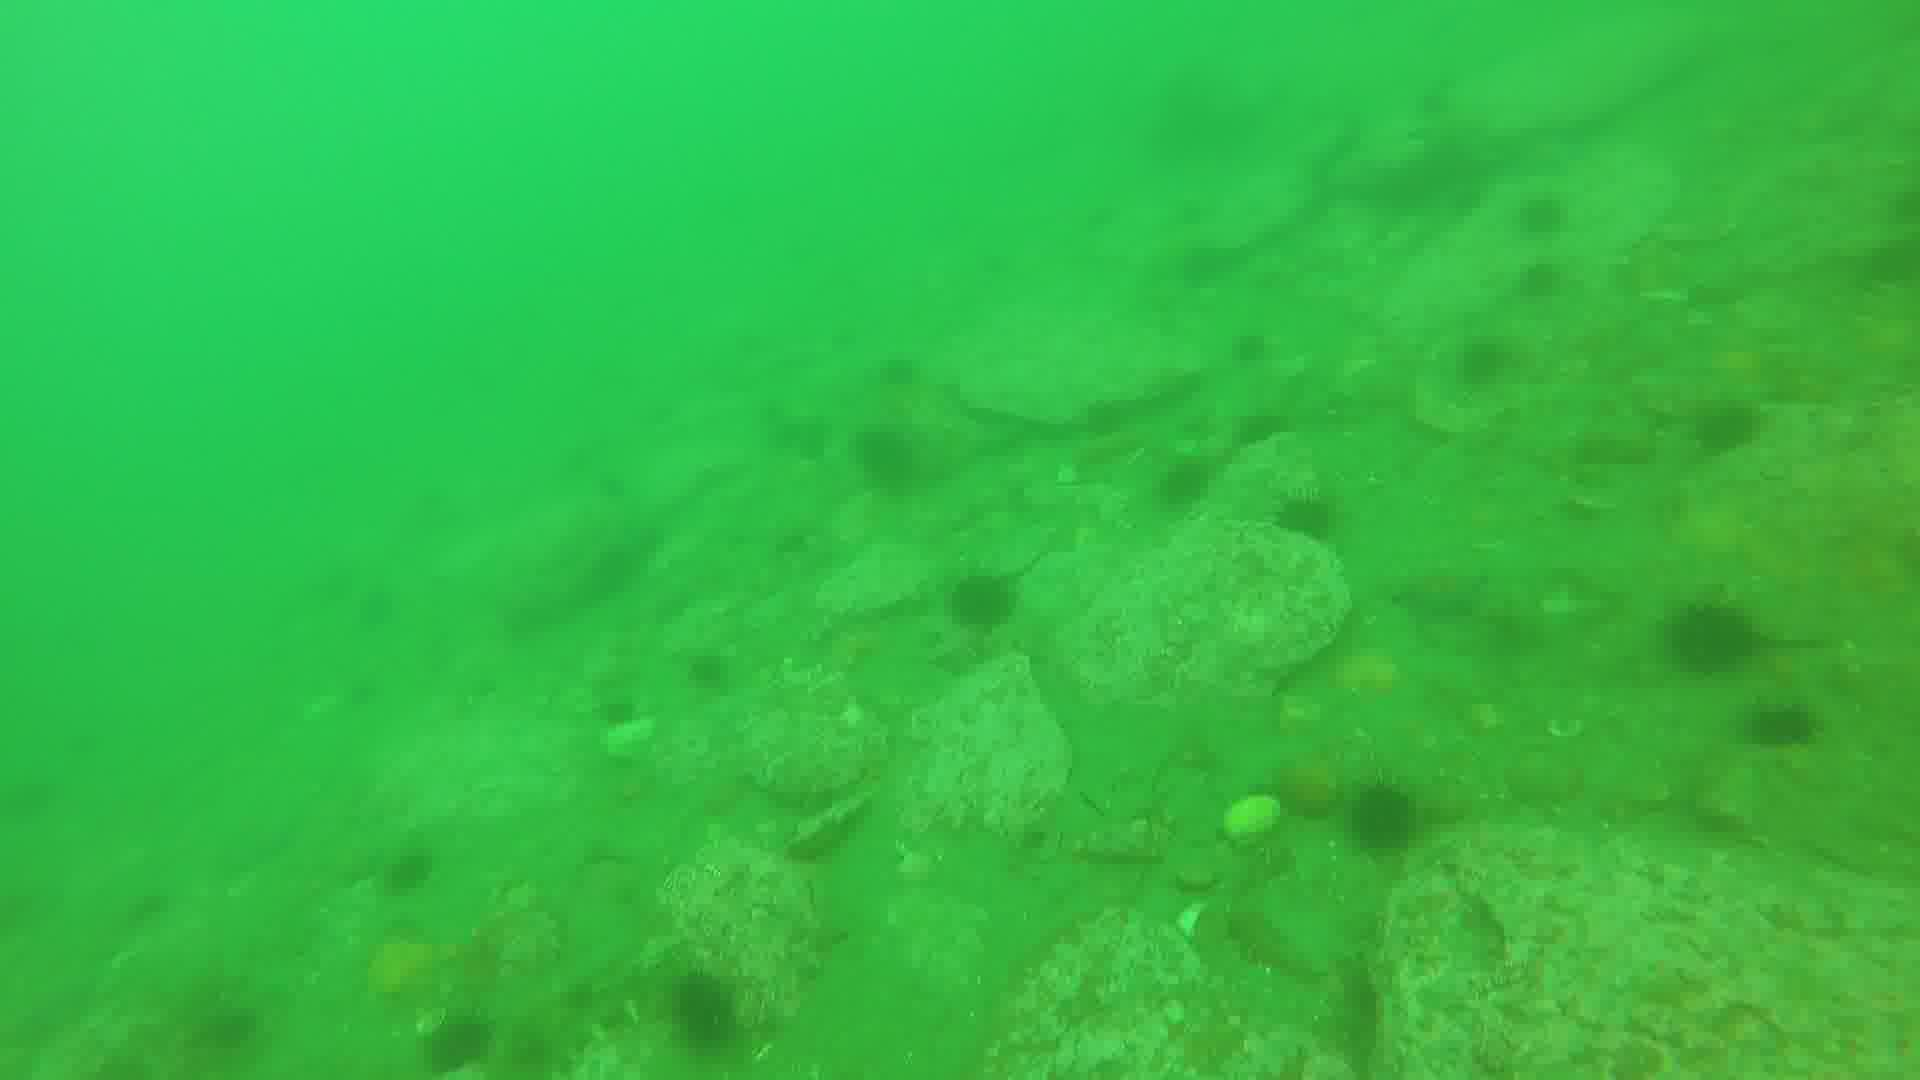echinus: (1672, 601, 1760, 678), (676, 975, 746, 1046), (1354, 778, 1422, 852), (1746, 700, 1826, 756), (953, 575, 1022, 632), (1274, 496, 1338, 547), (1466, 335, 1519, 388), (1513, 258, 1568, 309), (1519, 193, 1569, 236), (687, 657, 731, 696), (600, 696, 636, 738)
holothurian: (516, 947, 659, 1068)
starfish: (1396, 564, 1491, 632)
